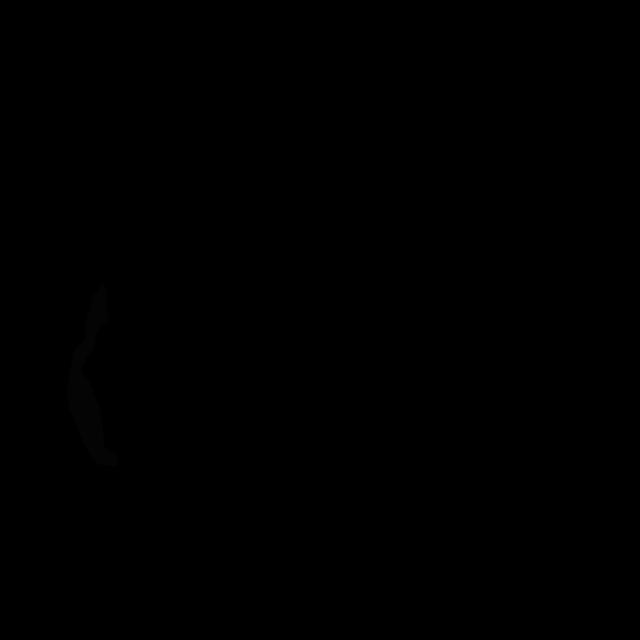soft_plastic: (66, 284, 118, 467)
